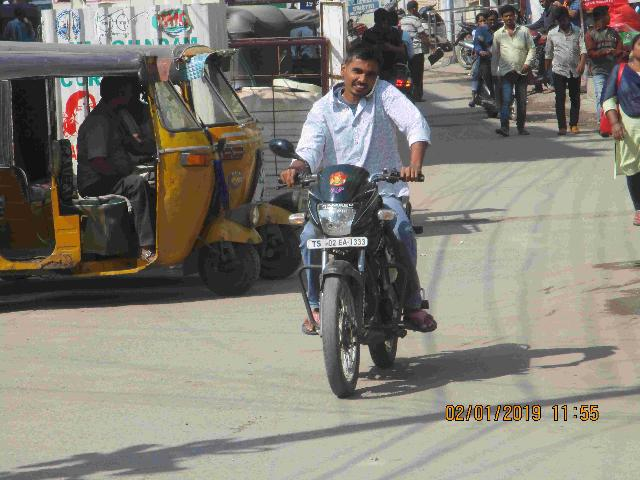motor: (269, 137, 440, 401)
non-helm: (341, 43, 386, 100)
